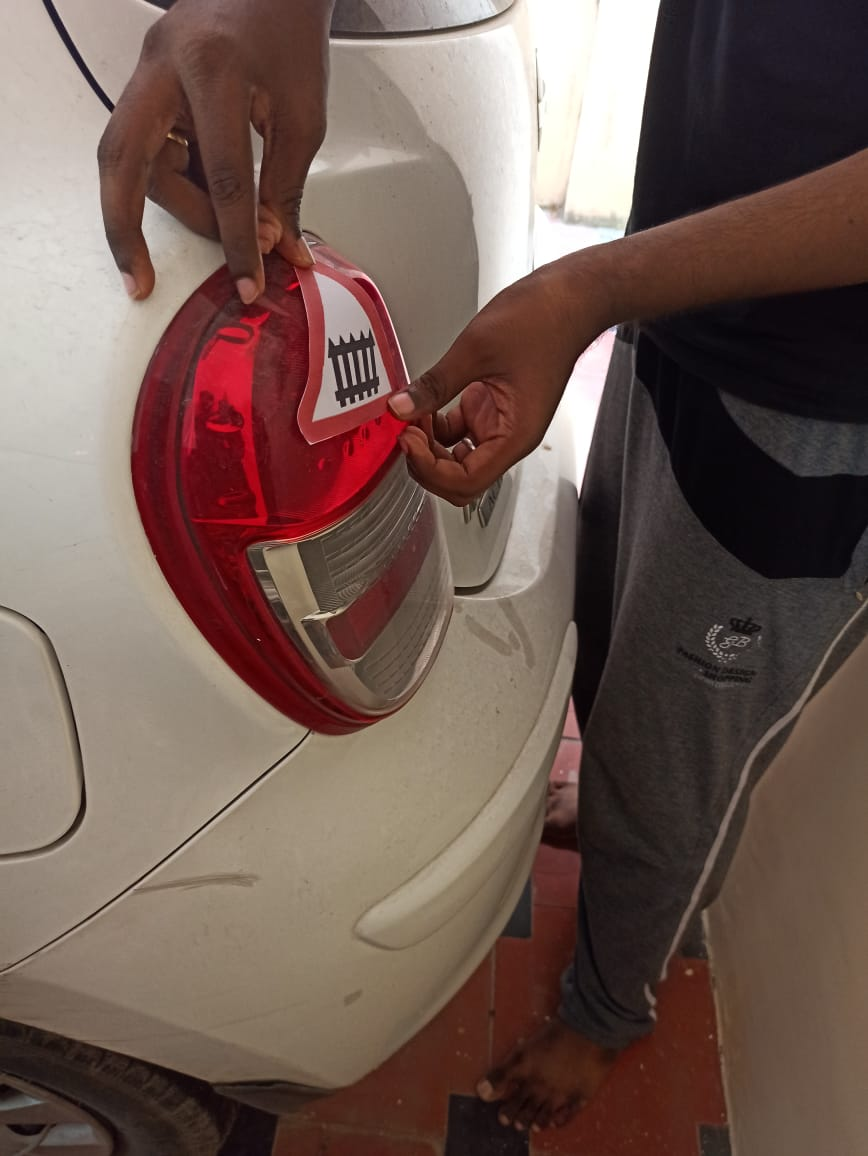GUARDED LEVEL CROSSING: (247, 233, 431, 439)
